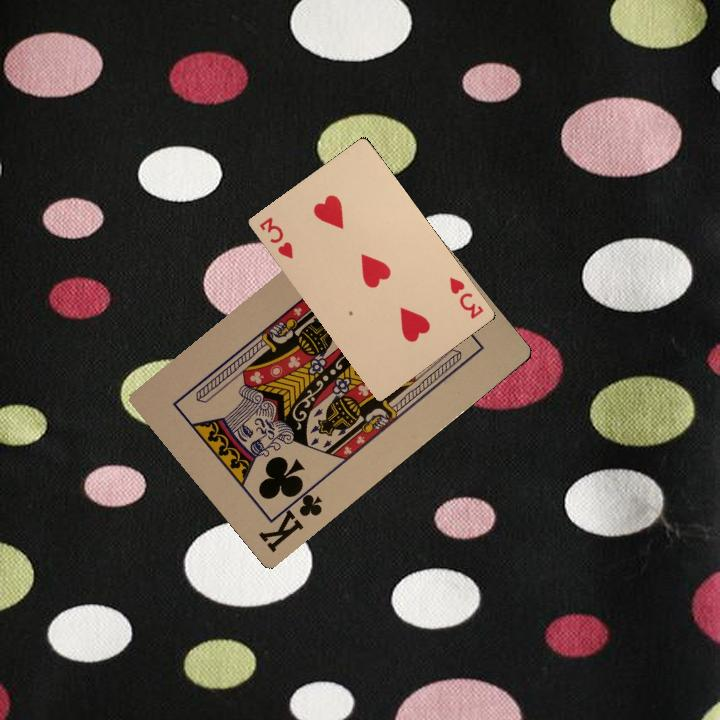3h: (255, 213, 296, 262), (445, 273, 486, 321)
Kc: (254, 480, 325, 555)
